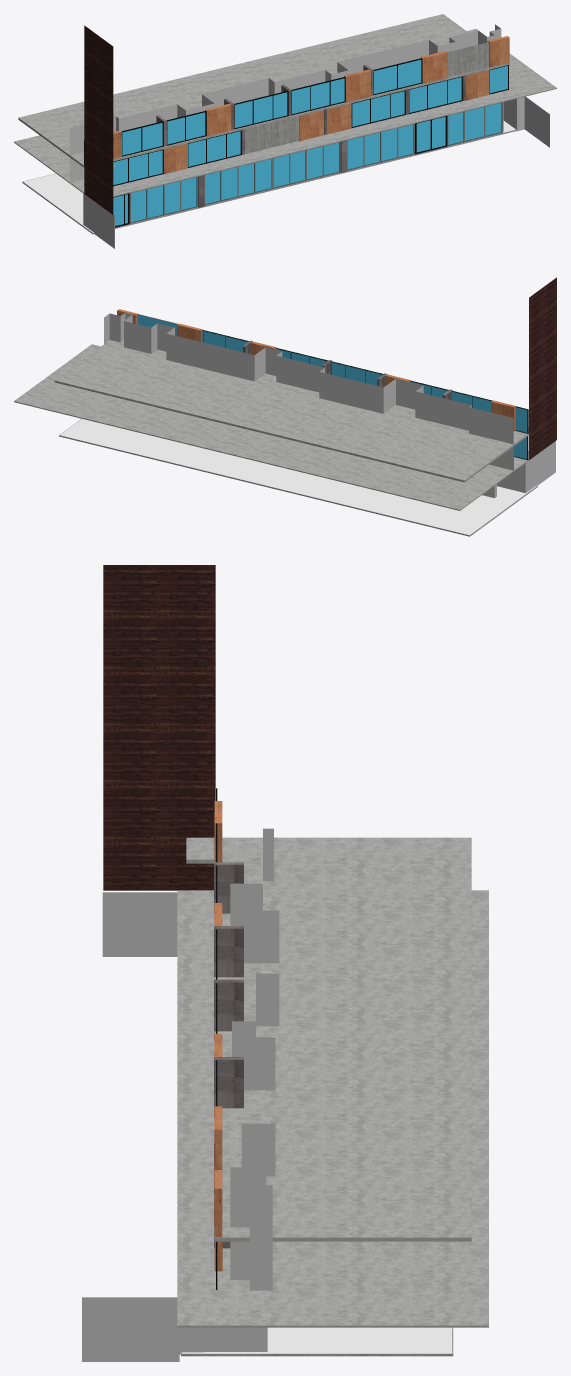
The model's file is house_02_section_1.FBX.
3 renders of one model, top to bottom at view 1: azimuth 30°, elevation 25°; view 2: azimuth 150°, elevation 25°; view 3: azimuth 270°, elevation 25°, orthographic. The views are drawn at different scales.
Visible parts, largest first — view 1: Object1096, Object1110, Object1112, Object1106, Object1098, Object1108, Object1100, Object1102, Object1092, Object1094, Object1104; view 2: Object1110, Object1112, Object1094, Object1098, Object1096, Object1100, Object1106, Object1108, Object1104; view 3: Object1110, Object1098, Object1112, Object1100, Object1104, Object1094, Object1106.
Part boxes in pixels (x1,y1,x2,y2): Object1096: [113, 59, 507, 225]; Object1110: [14, 14, 556, 234]; Object1112: [69, 24, 501, 181]; Object1106: [113, 36, 509, 174]; Object1098: [84, 25, 113, 214]; Object1108: [84, 58, 508, 227]; Object1100: [83, 96, 549, 248]; Object1102: [245, 42, 489, 153]; Object1092: [129, 102, 502, 223]; Object1094: [23, 121, 515, 232]; Object1104: [156, 64, 465, 207]; Object1110: [14, 340, 537, 536]; Object1112: [104, 312, 513, 470]; Object1094: [60, 419, 536, 534]; Object1098: [529, 277, 556, 459]; Object1096: [137, 315, 527, 459]; Object1100: [482, 441, 555, 498]; Object1106: [117, 309, 515, 431]; Object1108: [202, 330, 528, 460]; Object1104: [243, 340, 452, 400]; Object1110: [177, 837, 488, 1356]; Object1098: [103, 565, 215, 890]; Object1112: [230, 828, 279, 1290]; Object1100: [82, 892, 267, 1361]; Object1104: [214, 862, 243, 1248]; Object1094: [182, 1327, 451, 1353]; Object1106: [214, 801, 222, 1271].
Size of the model in its own units: 59538 by 24872 by 23476.
